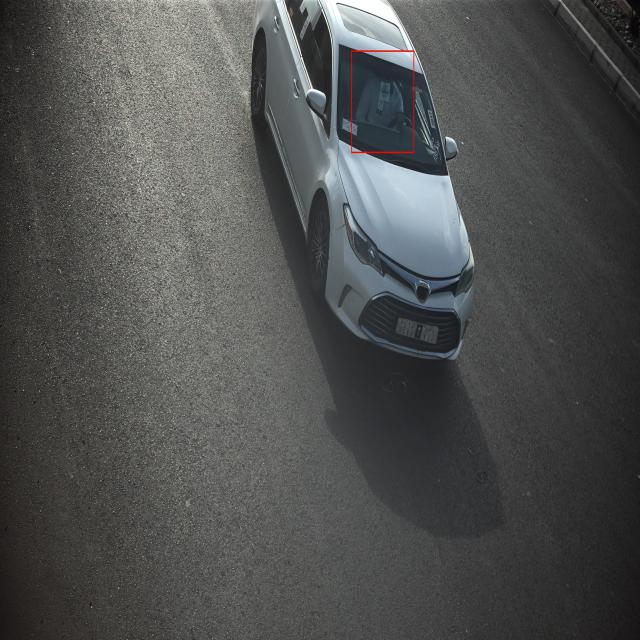windshield: (338, 39, 450, 178)
